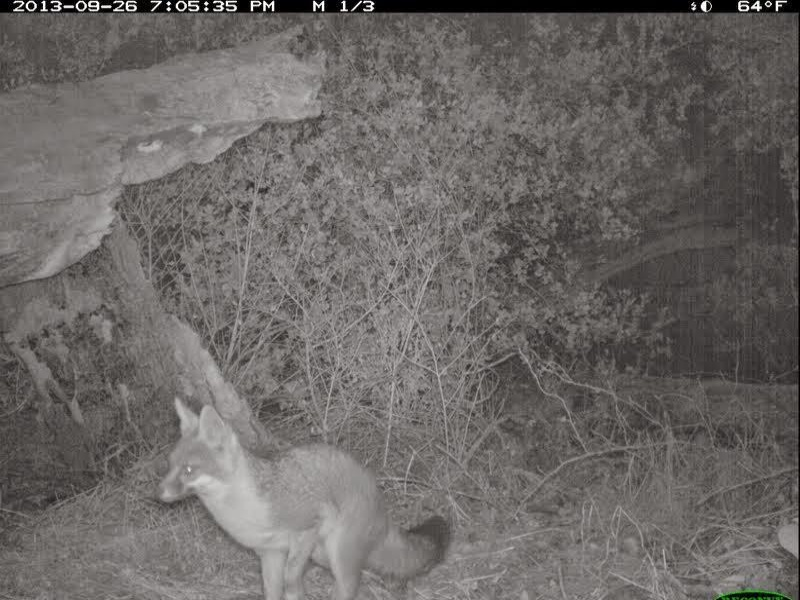fox: (153, 393, 451, 600)
